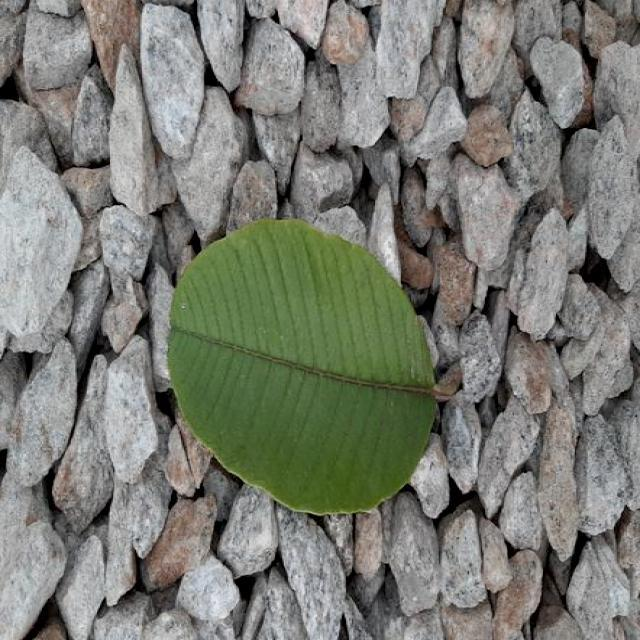leaf: (165, 216, 443, 516)
